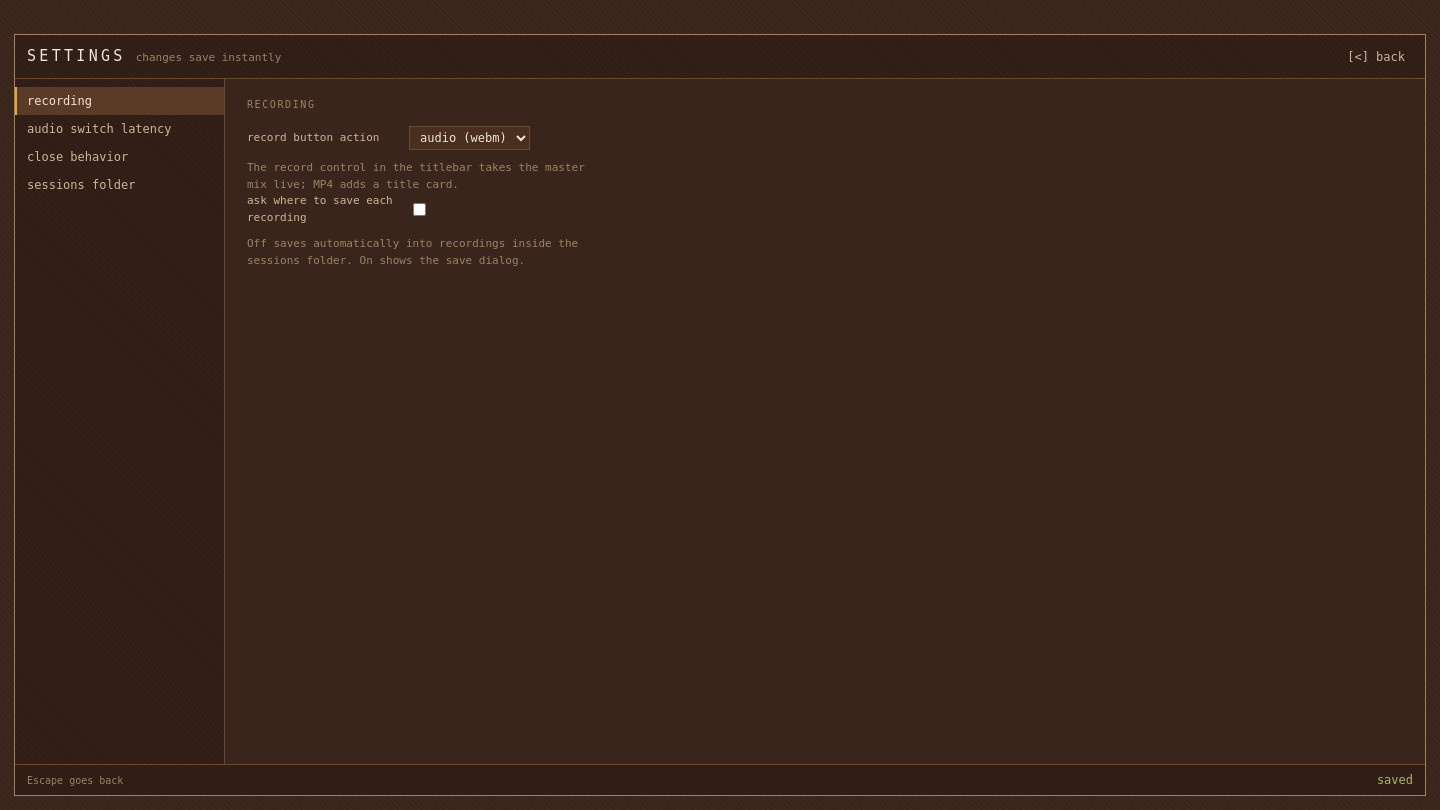
Test: SettingsPage › surfaces a refused folder change instead of the button doing nothing
This screenshot has width=1440, height=810.
Step 1. Click the button "sessions folder" → click(120, 185), box [15, 171, 224, 199]
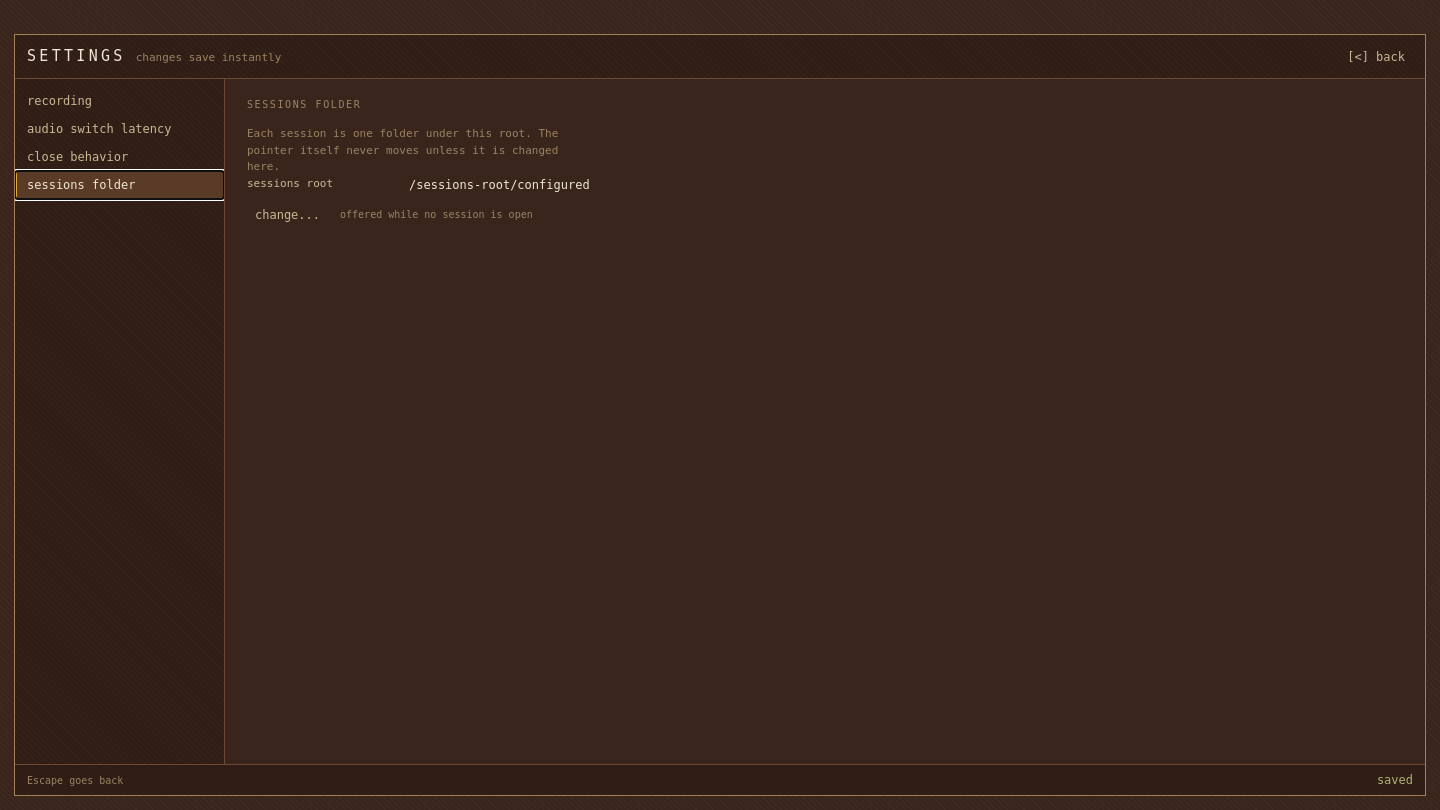
Step 2. Click the button "change..." → click(288, 214), box [247, 204, 328, 226]
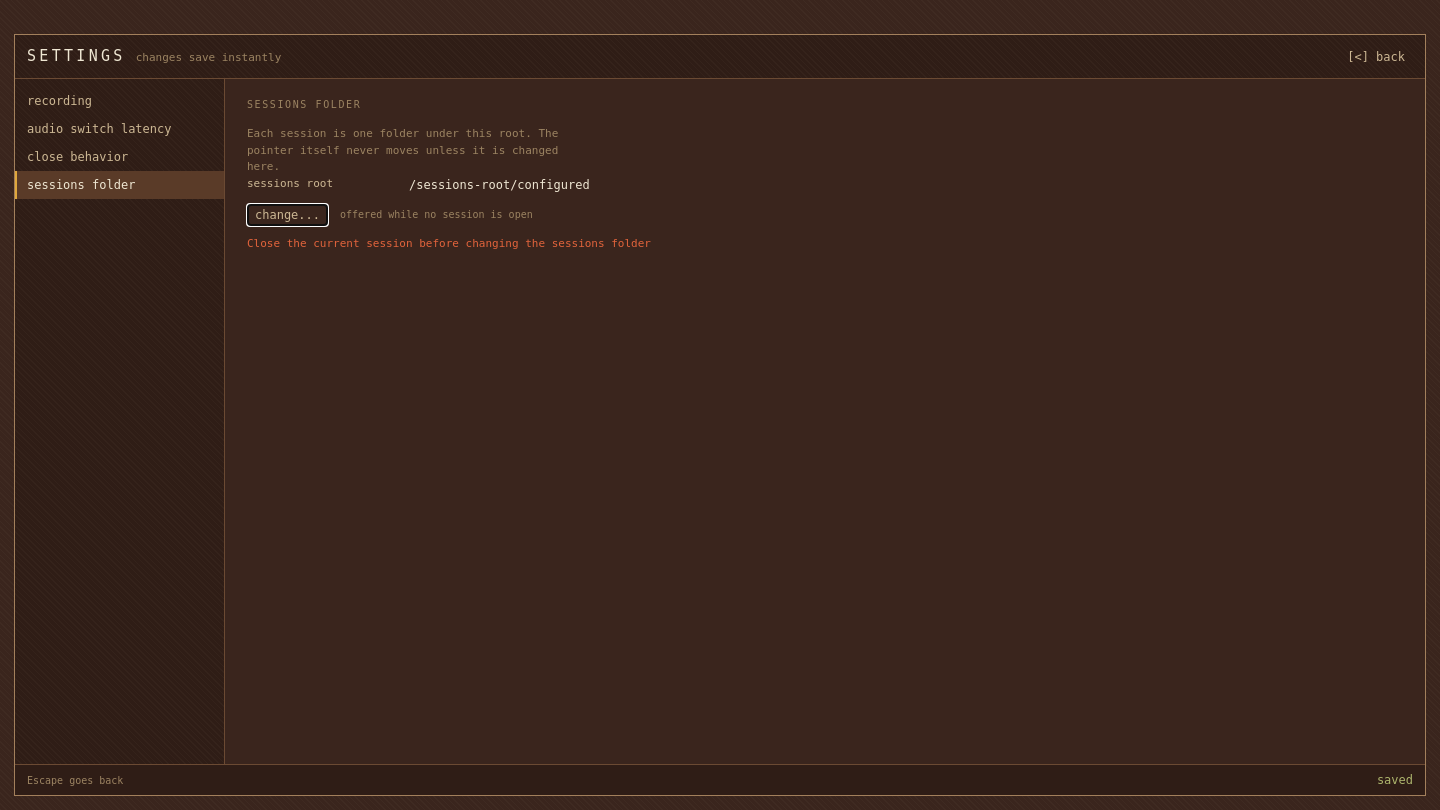
expect the text "Close the current session before changing the sessions folder" is shown: met, box [247, 236, 651, 250]
